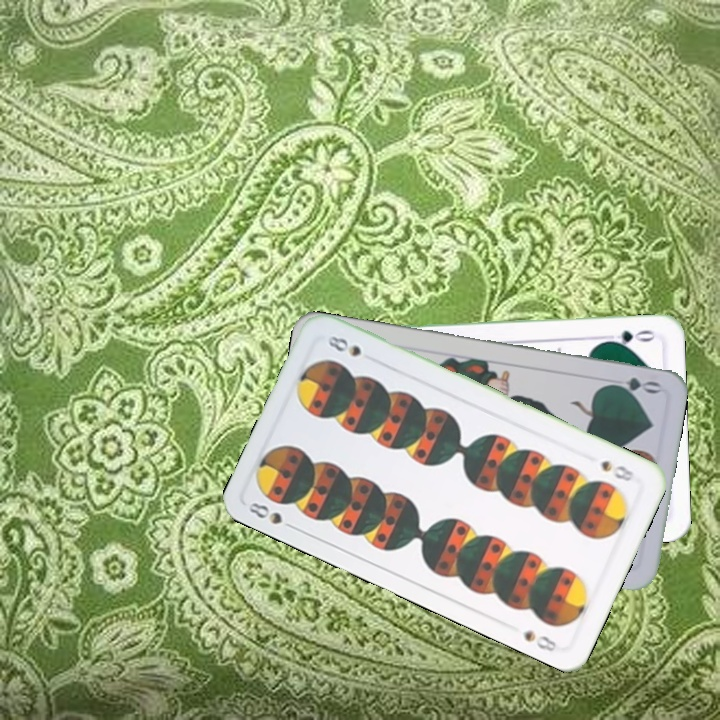GO: (602, 373, 662, 397), (599, 326, 658, 349)
S8: (244, 498, 300, 533), (597, 456, 639, 485)
